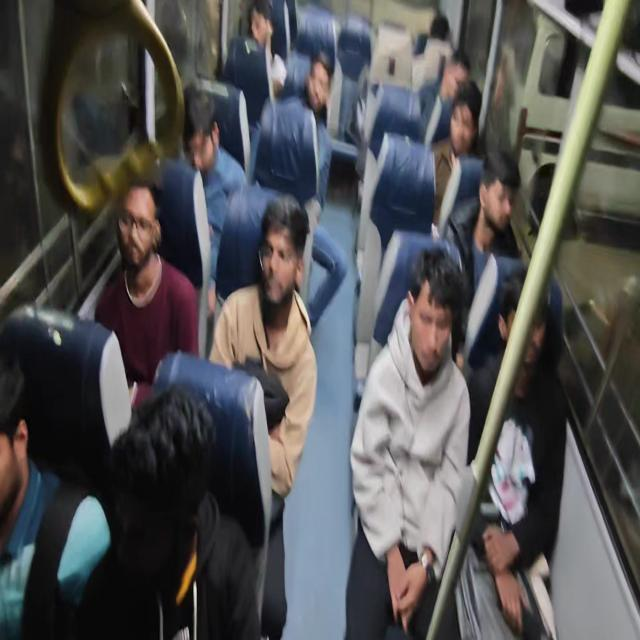person: (6, 1, 570, 638), (344, 242, 471, 638), (208, 194, 318, 638), (76, 382, 262, 639), (454, 271, 567, 638), (0, 351, 112, 638), (94, 178, 200, 410), (254, 50, 334, 304), (443, 148, 523, 370), (181, 83, 248, 311), (225, 0, 287, 131), (432, 80, 482, 226), (428, 50, 471, 144), (247, 0, 287, 100)
